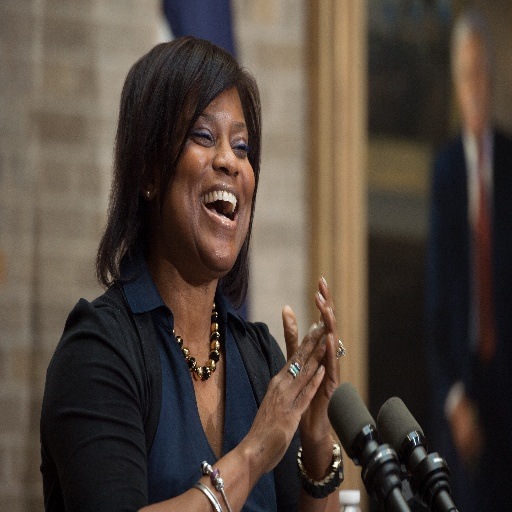hand: (244, 317, 326, 475), (280, 286, 347, 396), (450, 405, 483, 460)
